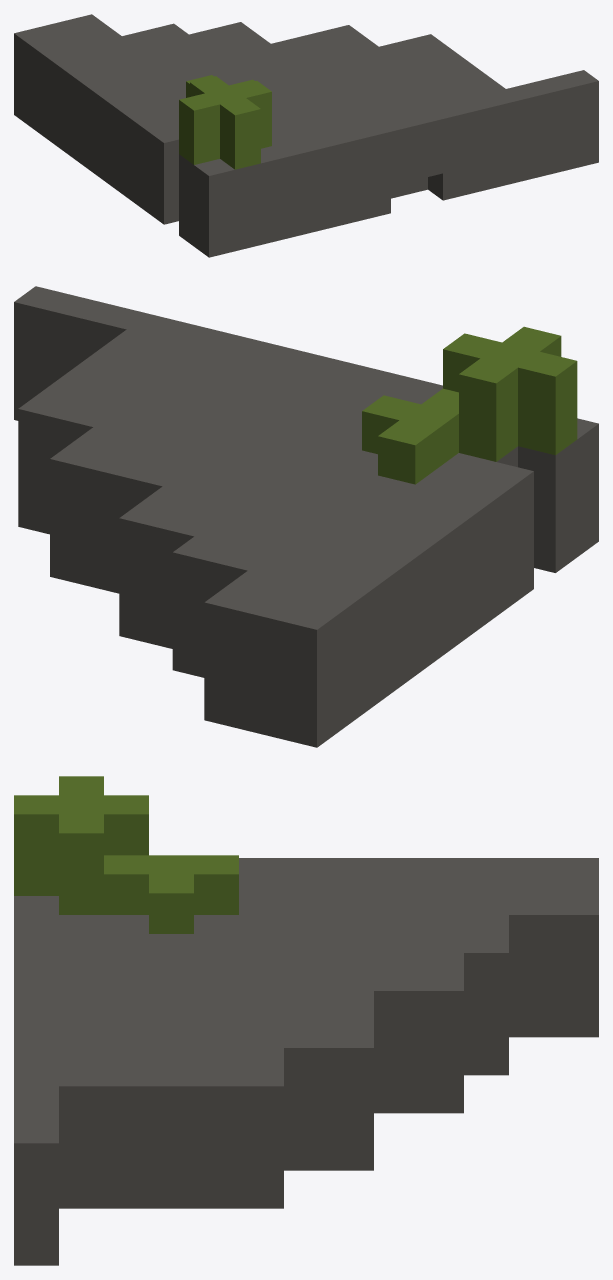
File: Water_floating_rocks_002.glb
3 renders of one model, top to bottom at view 1: azimuth 30°, elevation 25°; view 2: azimuth 150°, elevation 25°; view 3: azimuth 270°, elevation 25°, orthographic. The views are drawn at different scales.
Visible parts, largest first — view 1: Water_floating_rocks.002; view 2: Water_floating_rocks.002; view 3: Water_floating_rocks.002.
Part boxes in pixels (x1,y1,x2,y2): Water_floating_rocks.002: (14, 14, 598, 257); Water_floating_rocks.002: (14, 286, 598, 747); Water_floating_rocks.002: (14, 776, 598, 1265).
Bounding box in the file's own units: 1.41 × 0.47 × 1.22.
Materials: 1 (1 with a texture image).
